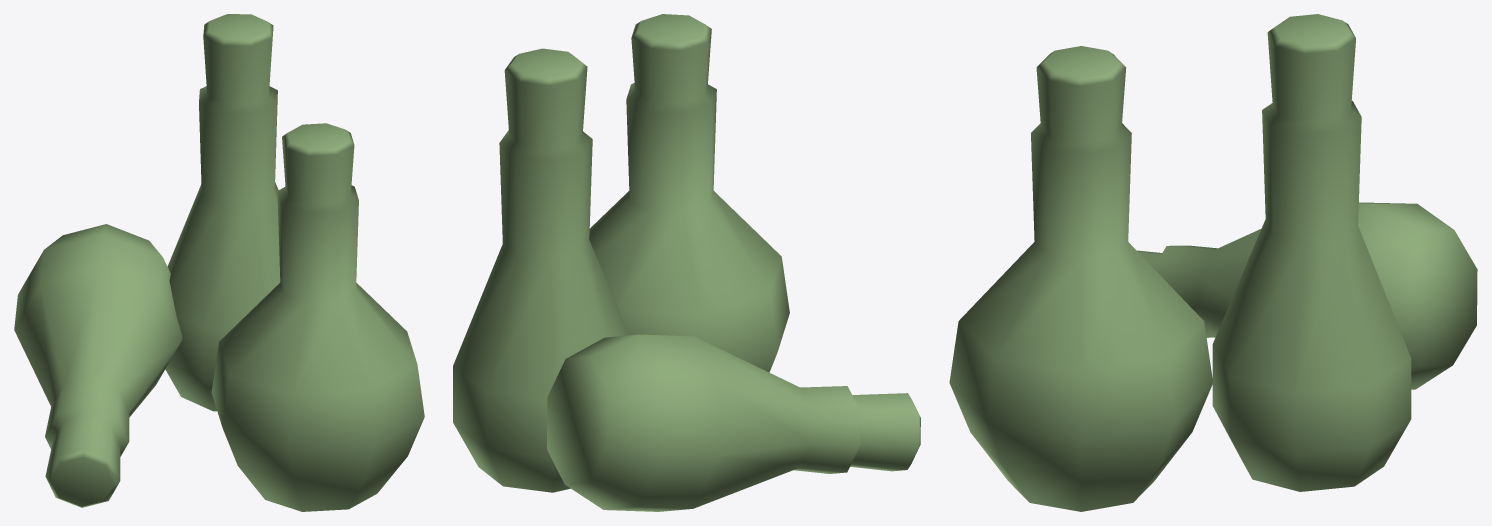
The model's file is Potion_Multi_01_Grp.fbx.
3 renders of one model, left to right at view 1: azimuth 30°, elevation 25°; view 2: azimuth 150°, elevation 25°; view 3: azimuth 270°, elevation 25°, orthographic. The views are drawn at different scales.
Visible parts, largest first — view 1: Potion_Multi_01_Grp; view 2: Potion_Multi_01_Grp; view 3: Potion_Multi_01_Grp.
Boxes of the visible parts, x1,y1,x2,y2 form: Potion_Multi_01_Grp: (14, 14, 424, 511); Potion_Multi_01_Grp: (453, 14, 920, 511); Potion_Multi_01_Grp: (949, 14, 1477, 511).
Size of the model in its own units: 32.58 by 34.99 by 36.32.
